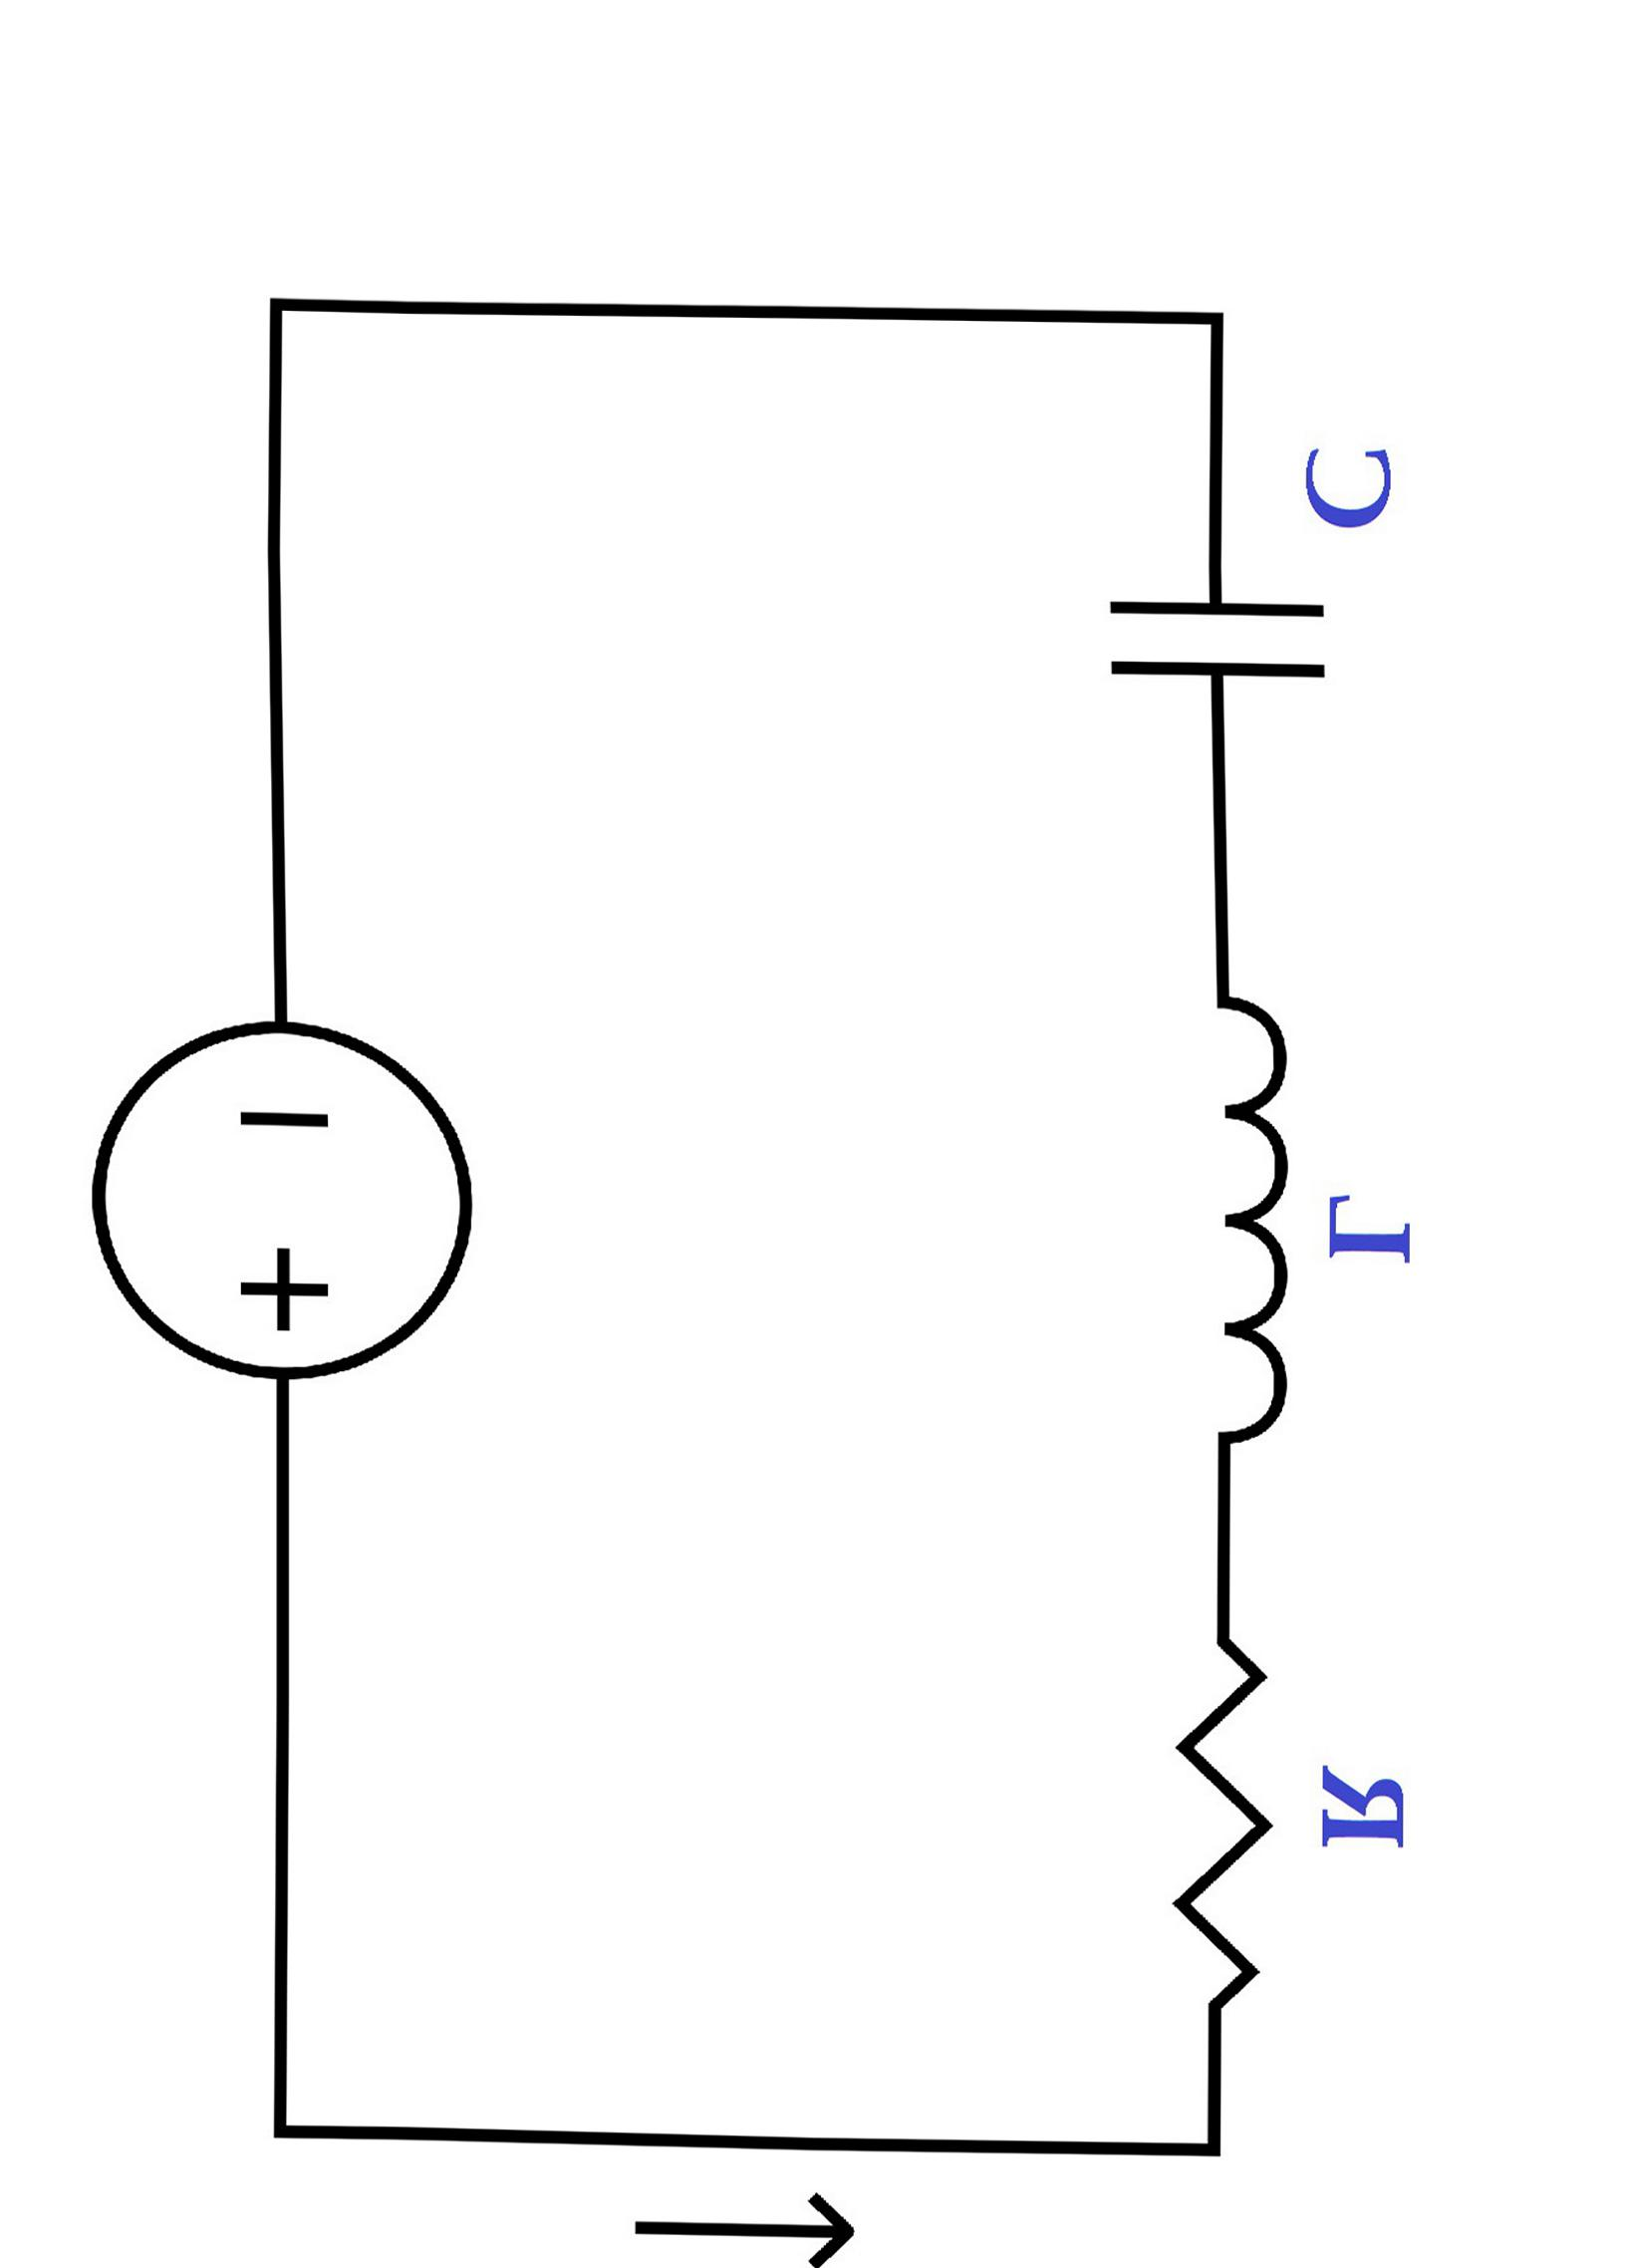Battery: (9, 952, 597, 1524)
